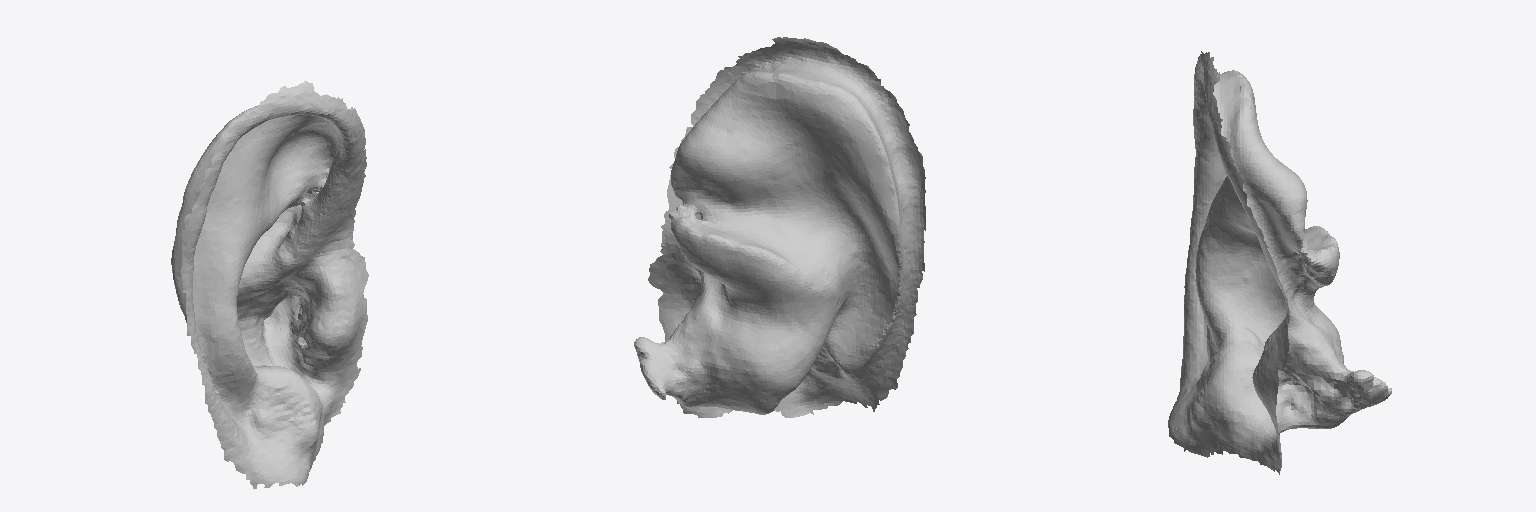
Rendered from trimmed.obj.
The picture shows the model from 3 angles: view 1: azimuth 30°, elevation 25°; view 2: azimuth 150°, elevation 25°; view 3: azimuth 270°, elevation 25°; orthographic projection.
Visible parts, largest first — view 1: Ear_obj; view 2: Ear_obj; view 3: Ear_obj.
Part boxes in pixels (x1,y1,x2,y2): Ear_obj: (171, 81, 368, 488); Ear_obj: (634, 37, 925, 417); Ear_obj: (1168, 51, 1391, 474).
Bounding box in the file's own units: 35.07 × 56.05 × 29.29.